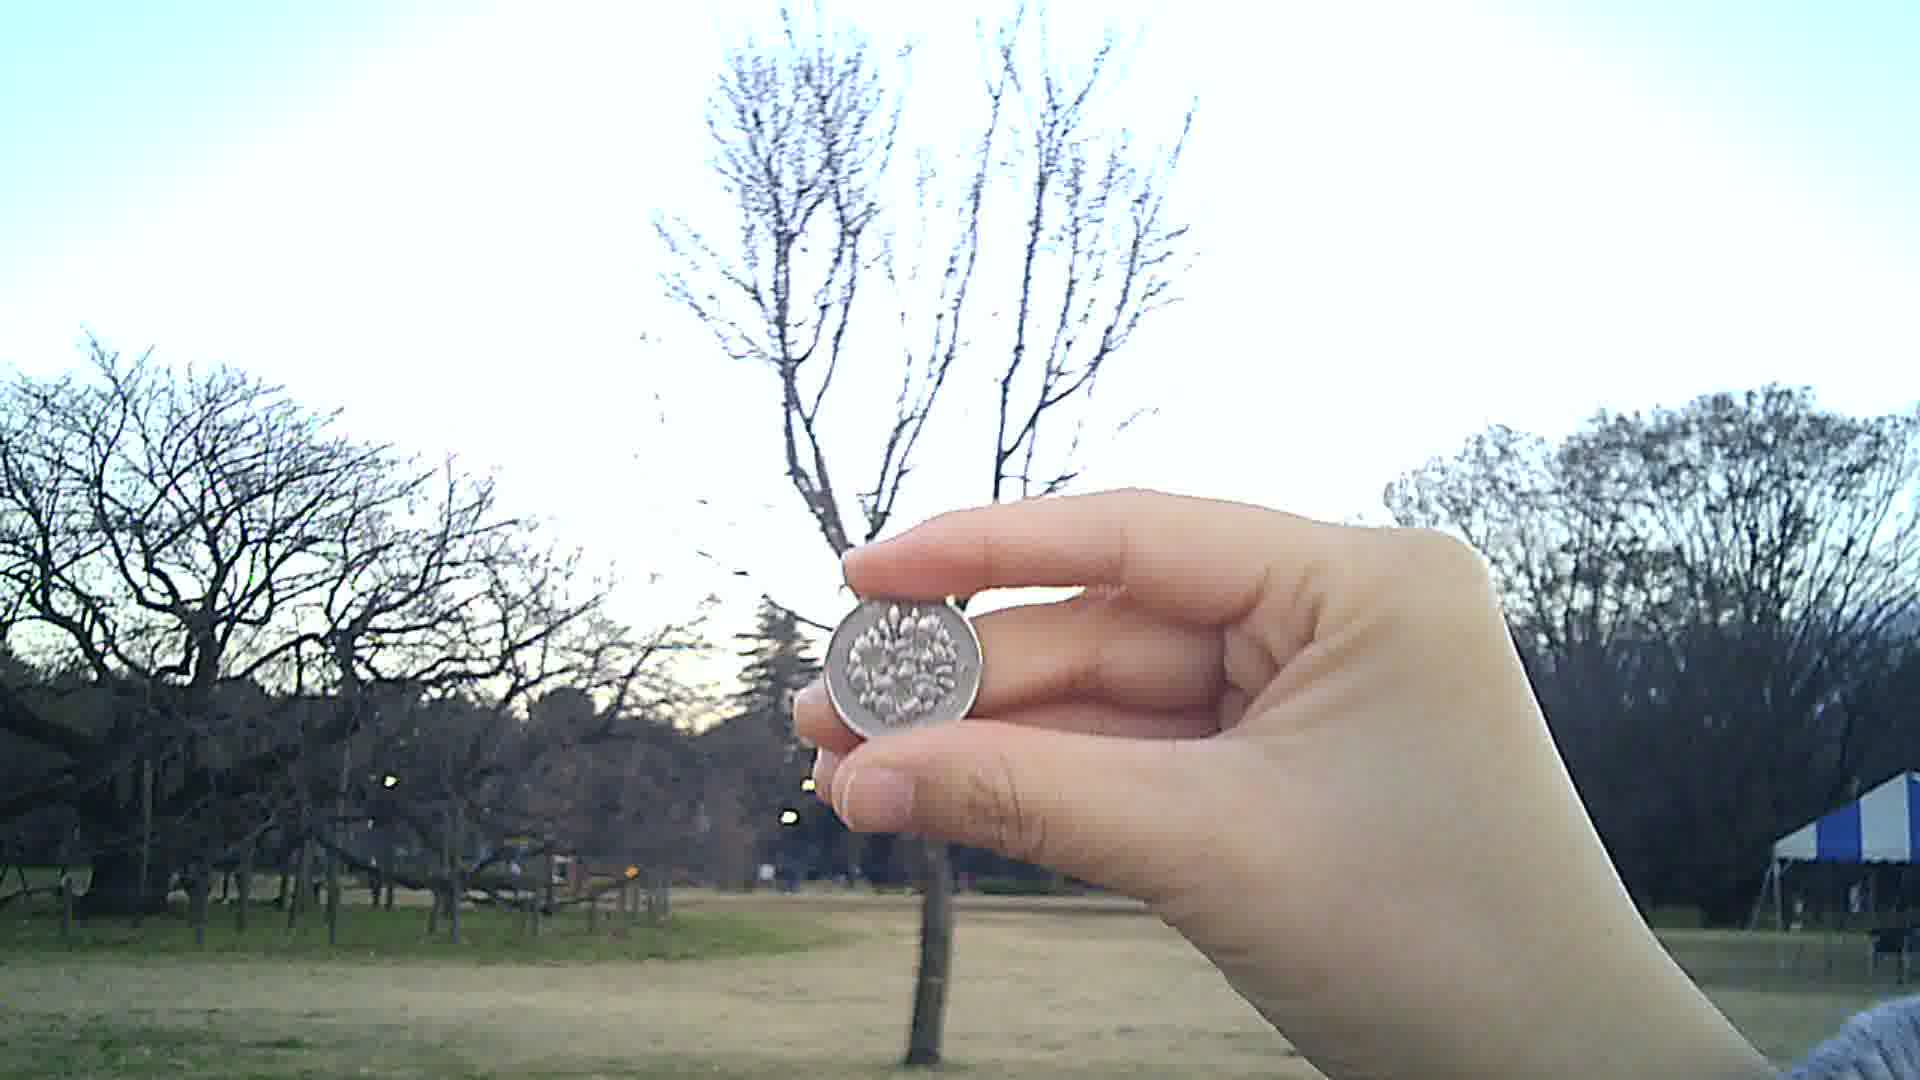100 Yen: (820, 593, 978, 742)
